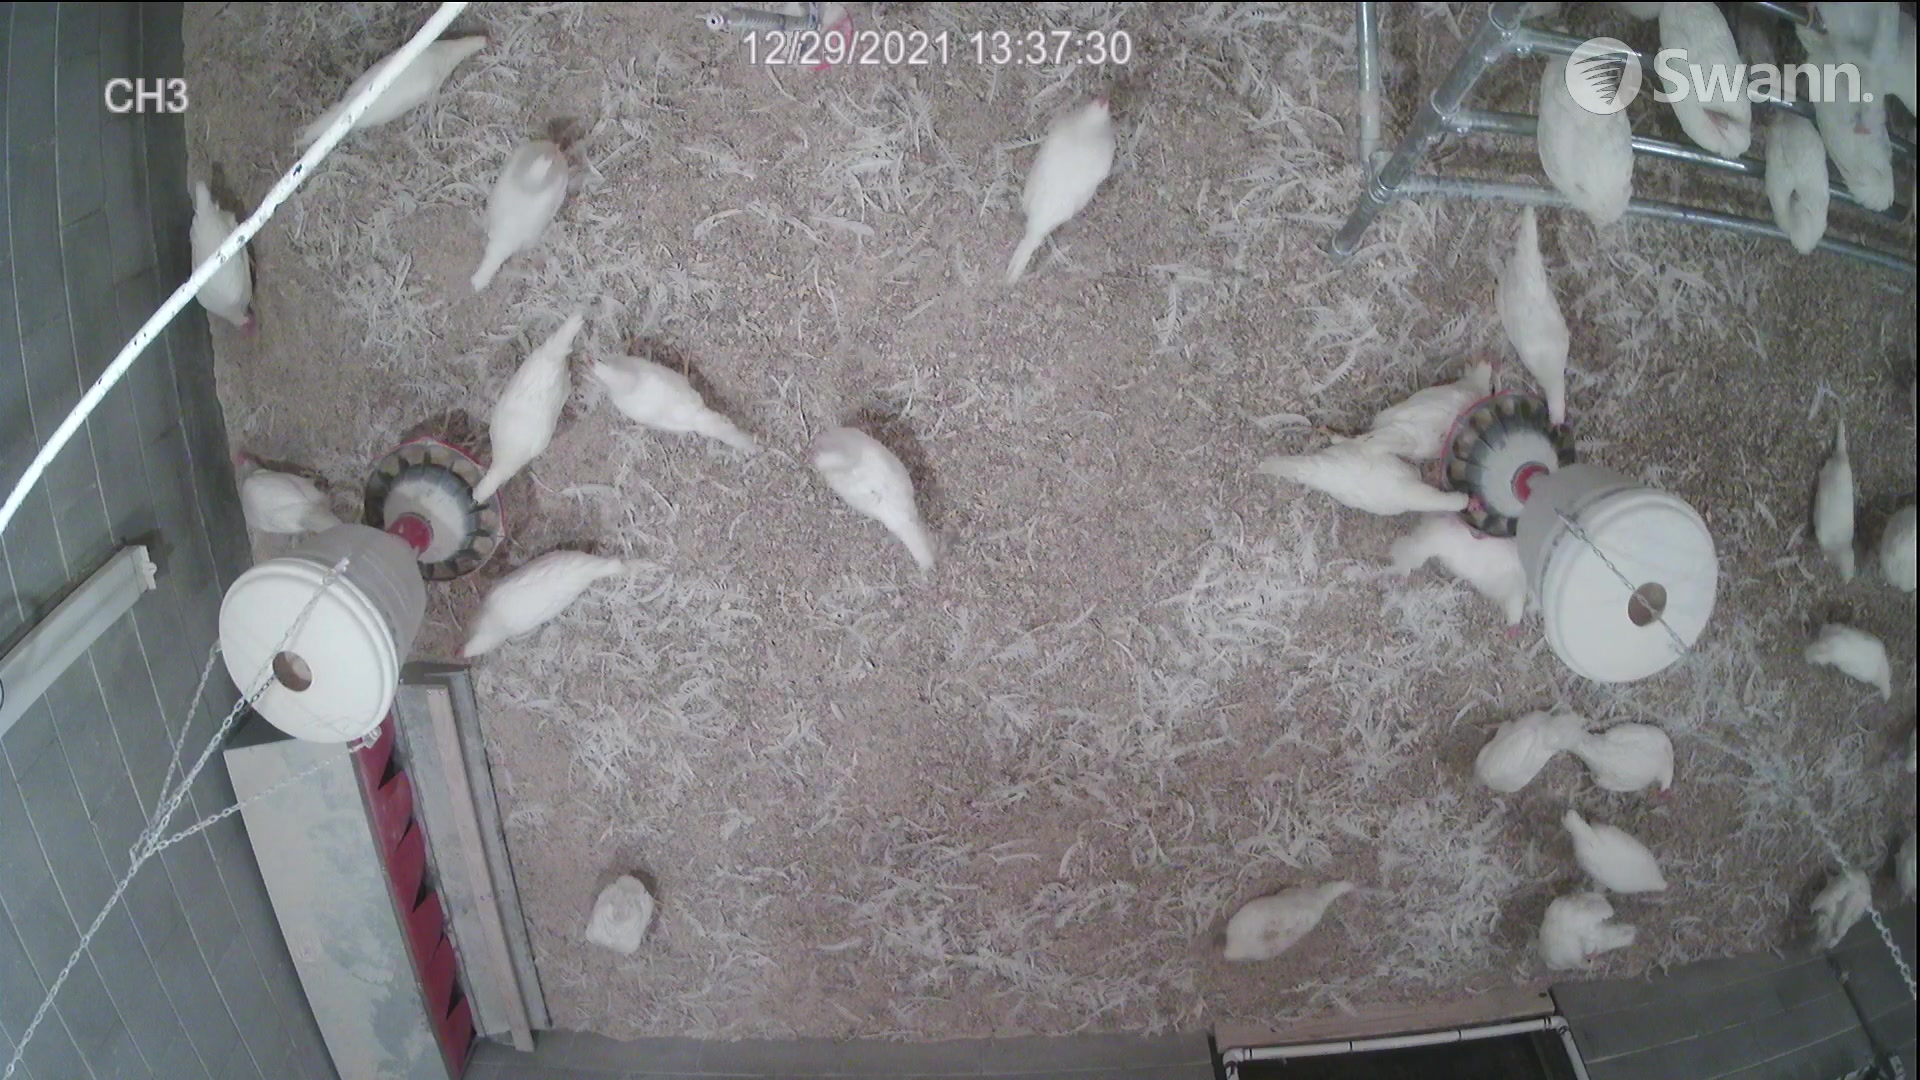Foraging: (454, 305, 592, 513), (1244, 434, 1481, 531), (1495, 200, 1585, 434), (1211, 880, 1357, 960), (585, 857, 666, 967)
Perching: (1535, 29, 1634, 223), (1793, 46, 1894, 219), (1651, 0, 1749, 157), (1753, 108, 1840, 251)
Preening: (1528, 891, 1635, 975)
